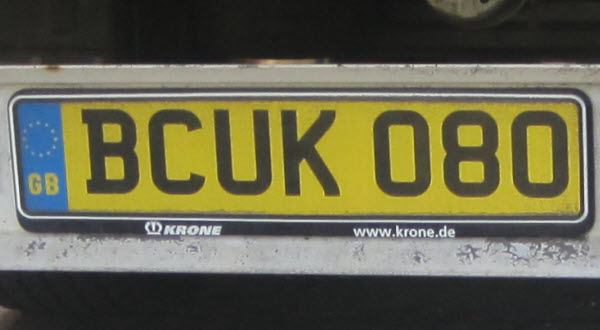license_plate: (10, 92, 586, 223)
